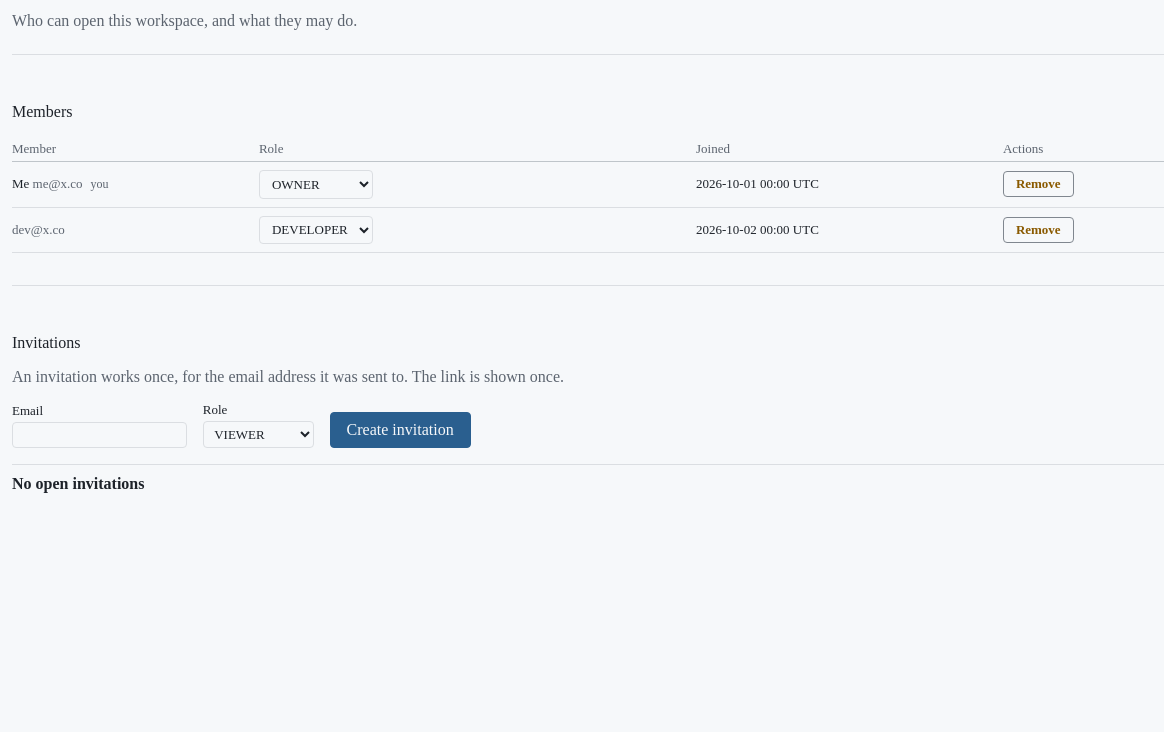
it: Members › shows the invitation link once, as text, and clears it on Done
This screenshot has width=1164, height=732.
Type "new@x.co" into the field labelled "Email" at (99, 435), box [12,422,187,448]
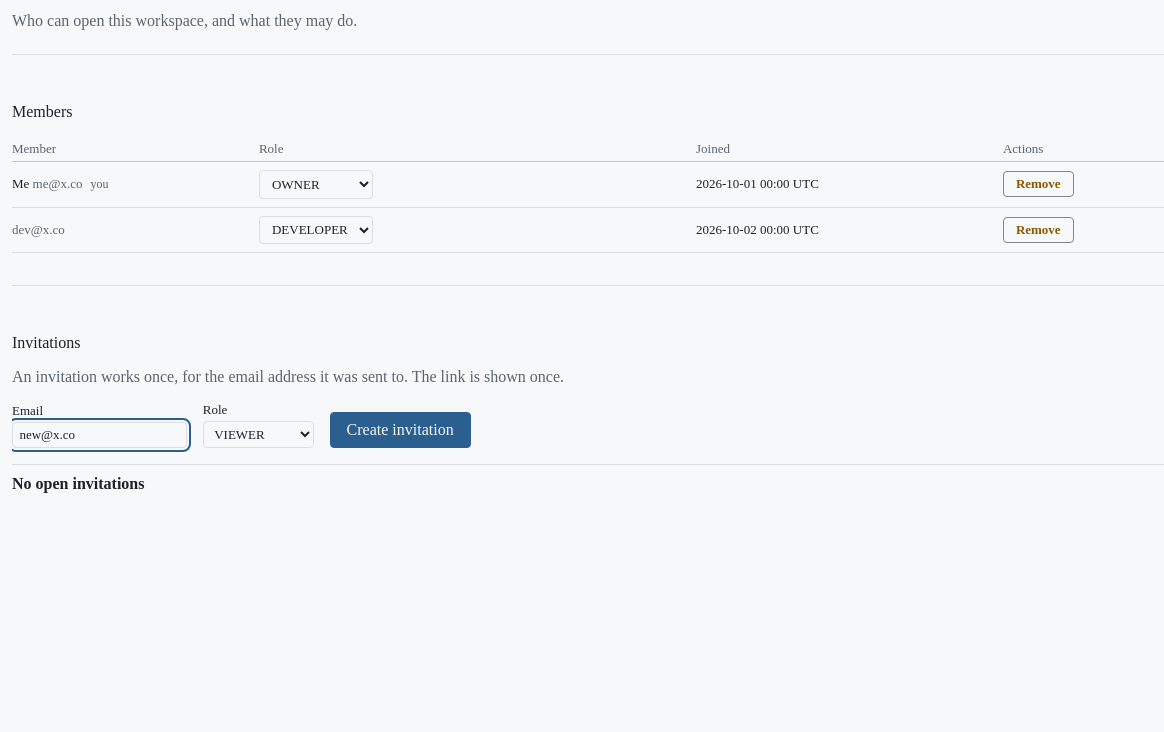
Click the button "Create invitation" at (400, 430), box [330,412,471,448]
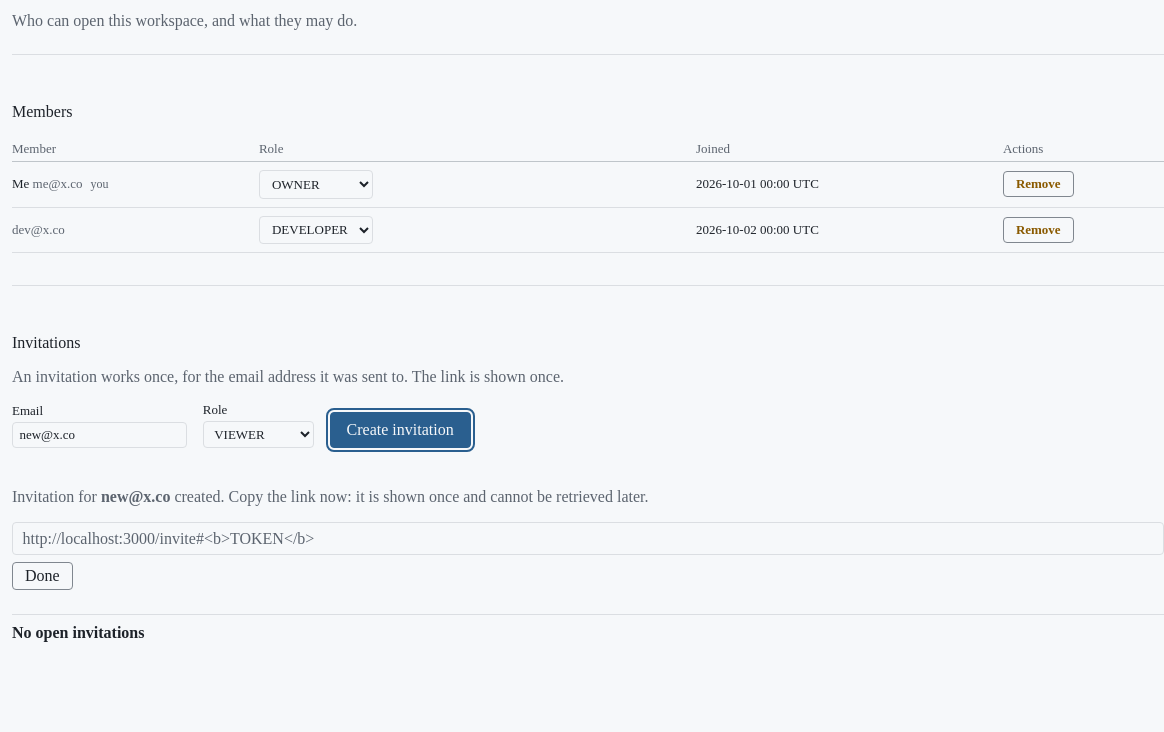
Check: the text with test id "invite-link" reads "http://localhost:3000/invite#<b>TOKEN</b>", box [23,530,314,547]
Click the button "Done" at (42, 576), box [12,562,73,590]
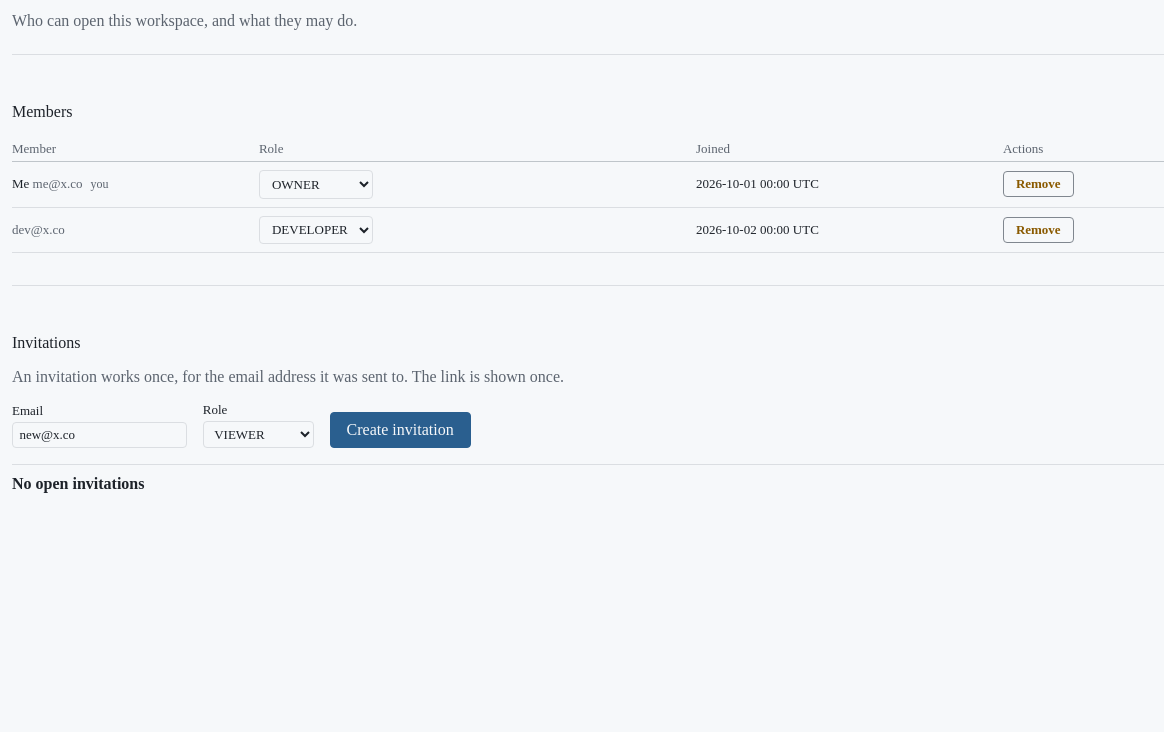
Check: the text with test id "invite-link" is gone
